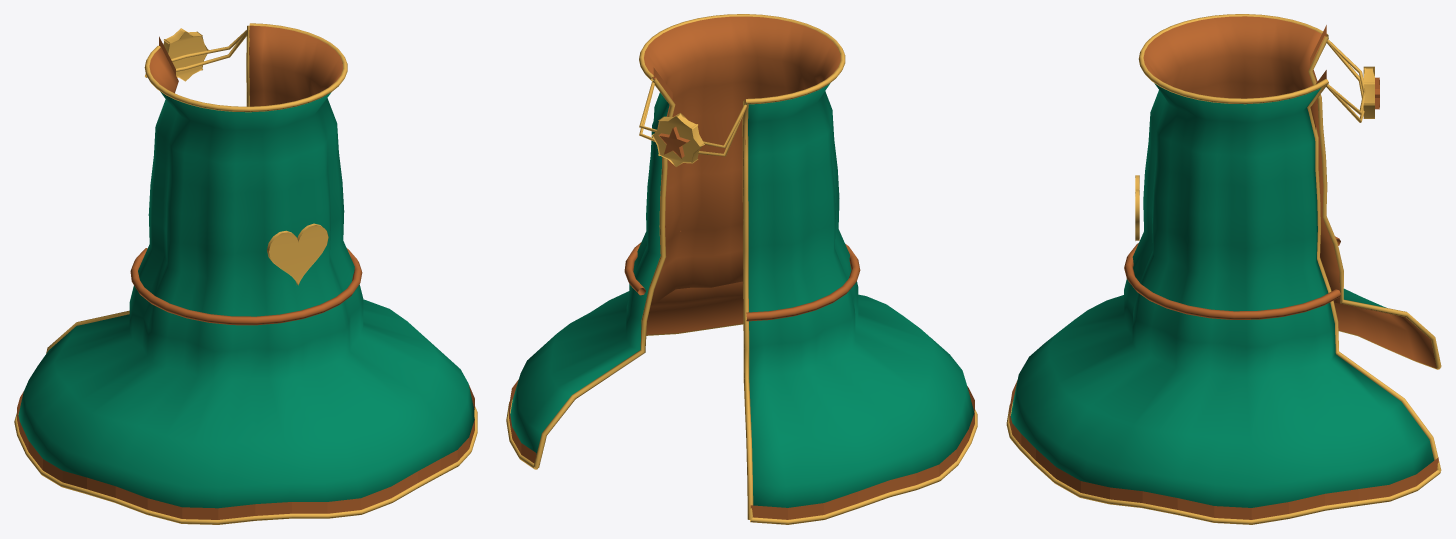
File: velvet-court-queen.glb
3 renders of one model, left to right at view 1: azimuth 30°, elevation 25°; view 2: azimuth 150°, elevation 25°; view 3: azimuth 270°, elevation 25°, orthographic.
Visible parts, largest first — view 1: tailored_cloth, broad_embroidered_hem, tailored_gold_binding.001, court_sash, back_heraldry, tailored_gold_binding, brooch_gold; view 2: tailored_cloth, broad_embroidered_hem, tailored_gold_binding.003, tailored_gold_binding.002, tailored_gold_binding.001, court_sash, tailored_gold_binding, brooch_gold; view 3: tailored_cloth, broad_embroidered_hem, tailored_gold_binding.001, court_sash, tailored_gold_binding.003, tailored_gold_binding, tailored_gold_binding.002, brooch_gold.
Part boxes in pixels (<box>): tailored_cloth: <box>18,25,474,508</box>; broad_embroidered_hem: <box>17,384,474,519</box>; tailored_gold_binding.001: <box>14,406,477,524</box>; court_sash: <box>130,248,362,325</box>; back_heraldry: <box>267,223,328,285</box>; tailored_gold_binding: <box>144,23,347,112</box>; brooch_gold: <box>163,28,208,81</box>; tailored_cloth: <box>510,16,974,507</box>; broad_embroidered_hem: <box>509,379,974,519</box>; tailored_gold_binding.003: <box>742,99,753,519</box>; tailored_gold_binding.002: <box>533,78,675,468</box>; tailored_gold_binding.001: <box>506,323,977,524</box>; court_sash: <box>624,231,860,321</box>; tailored_gold_binding: <box>639,14,845,104</box>; brooch_gold: <box>651,113,704,166</box>; tailored_cloth: <box>1010,16,1436,507</box>; broad_embroidered_hem: <box>1009,380,1438,519</box>; tailored_gold_binding.001: <box>1006,330,1440,524</box>; court_sash: <box>1124,236,1340,319</box>; tailored_gold_binding.003: <box>1308,36,1441,368</box>; tailored_gold_binding: <box>1138,14,1328,104</box>; tailored_gold_binding.002: <box>1307,82,1441,471</box>; brooch_gold: <box>1363,66,1374,118</box>.
Bounding box in the file's own units: 0.7396 × 0.6591 × 0.6846.
